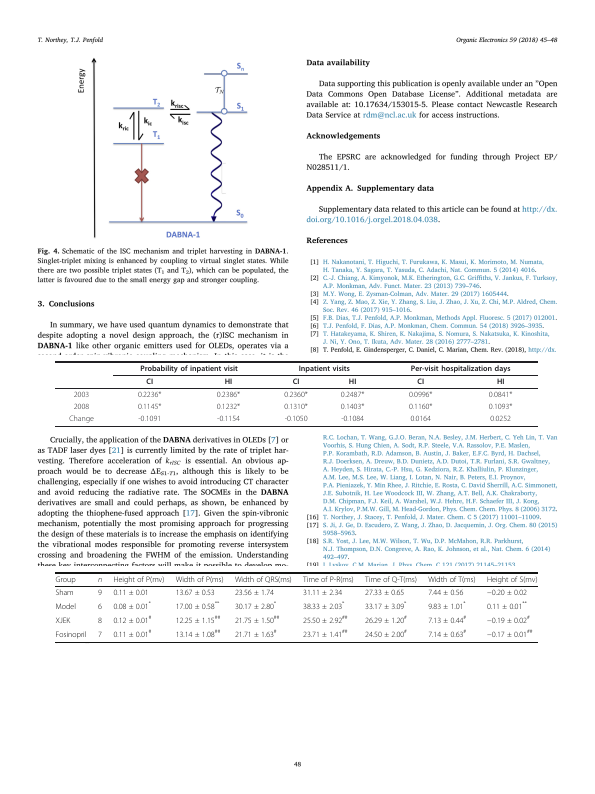borderless: (55, 571, 538, 642), (55, 360, 538, 426)
cell: (410, 364, 511, 373), (139, 364, 239, 373), (234, 575, 293, 584), (486, 628, 533, 639), (175, 614, 221, 625), (234, 614, 280, 625), (302, 614, 348, 625), (175, 628, 221, 639), (302, 628, 348, 639), (175, 600, 220, 611), (486, 614, 531, 625), (364, 575, 418, 584), (364, 614, 408, 625), (234, 628, 278, 639), (364, 628, 408, 639), (298, 364, 351, 373), (112, 575, 165, 584), (302, 575, 355, 584), (234, 600, 277, 611), (302, 600, 345, 611), (364, 600, 407, 611), (486, 575, 538, 584), (486, 600, 528, 611), (427, 575, 477, 584), (175, 575, 224, 584), (112, 600, 152, 611), (427, 600, 467, 611), (112, 614, 152, 625), (427, 614, 467, 625), (112, 628, 152, 639), (427, 628, 467, 639), (486, 588, 528, 597), (175, 588, 216, 597), (234, 588, 275, 597), (302, 588, 343, 597), (364, 588, 405, 597), (112, 588, 150, 597), (427, 588, 464, 597), (55, 630, 87, 639), (68, 414, 95, 424), (283, 390, 309, 400), (283, 402, 309, 412), (137, 390, 162, 400), (216, 390, 241, 400), (340, 390, 365, 400), (408, 390, 433, 400), (488, 390, 513, 400), (137, 402, 162, 412), (216, 402, 241, 412), (340, 402, 365, 412), (408, 402, 433, 412), (488, 402, 513, 412), (137, 414, 162, 424), (216, 414, 241, 424), (340, 414, 365, 424), (284, 414, 308, 424), (409, 414, 432, 424), (489, 414, 512, 424), (55, 602, 77, 611), (55, 575, 76, 584), (55, 588, 74, 597), (73, 390, 90, 400), (73, 402, 90, 412), (55, 616, 71, 625), (145, 377, 154, 387), (224, 377, 233, 387), (348, 377, 357, 387), (416, 377, 425, 387), (496, 377, 505, 387), (292, 377, 300, 387), (97, 588, 103, 597), (97, 602, 103, 611), (97, 616, 103, 625), (97, 630, 103, 639), (97, 577, 103, 583)
